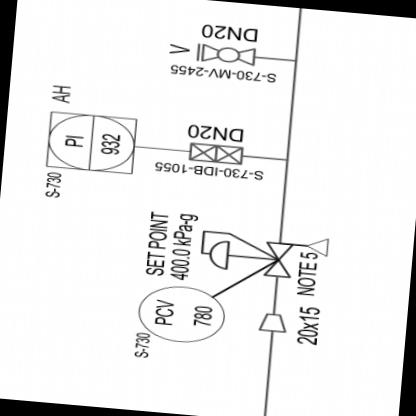LMI: (134, 282, 229, 346)
TAG: (43, 108, 140, 176)
